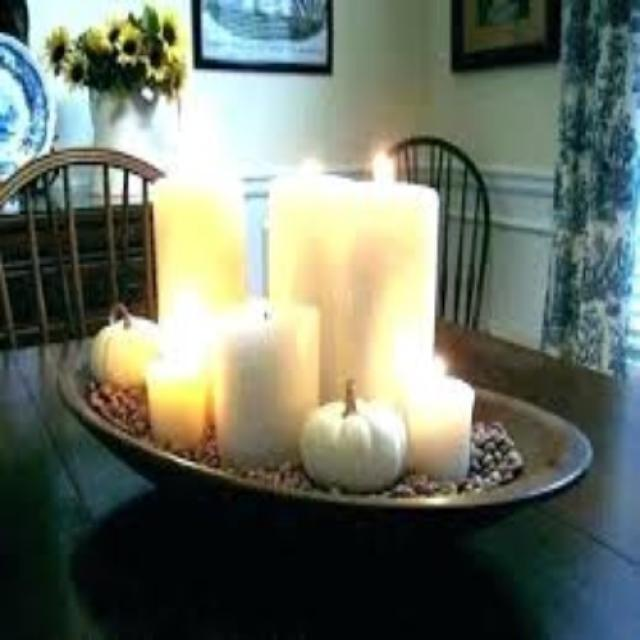Fire: (168, 134, 227, 178), (412, 356, 454, 397), (160, 338, 195, 384), (293, 148, 329, 192), (368, 150, 409, 187), (172, 280, 212, 316), (243, 296, 277, 330)
